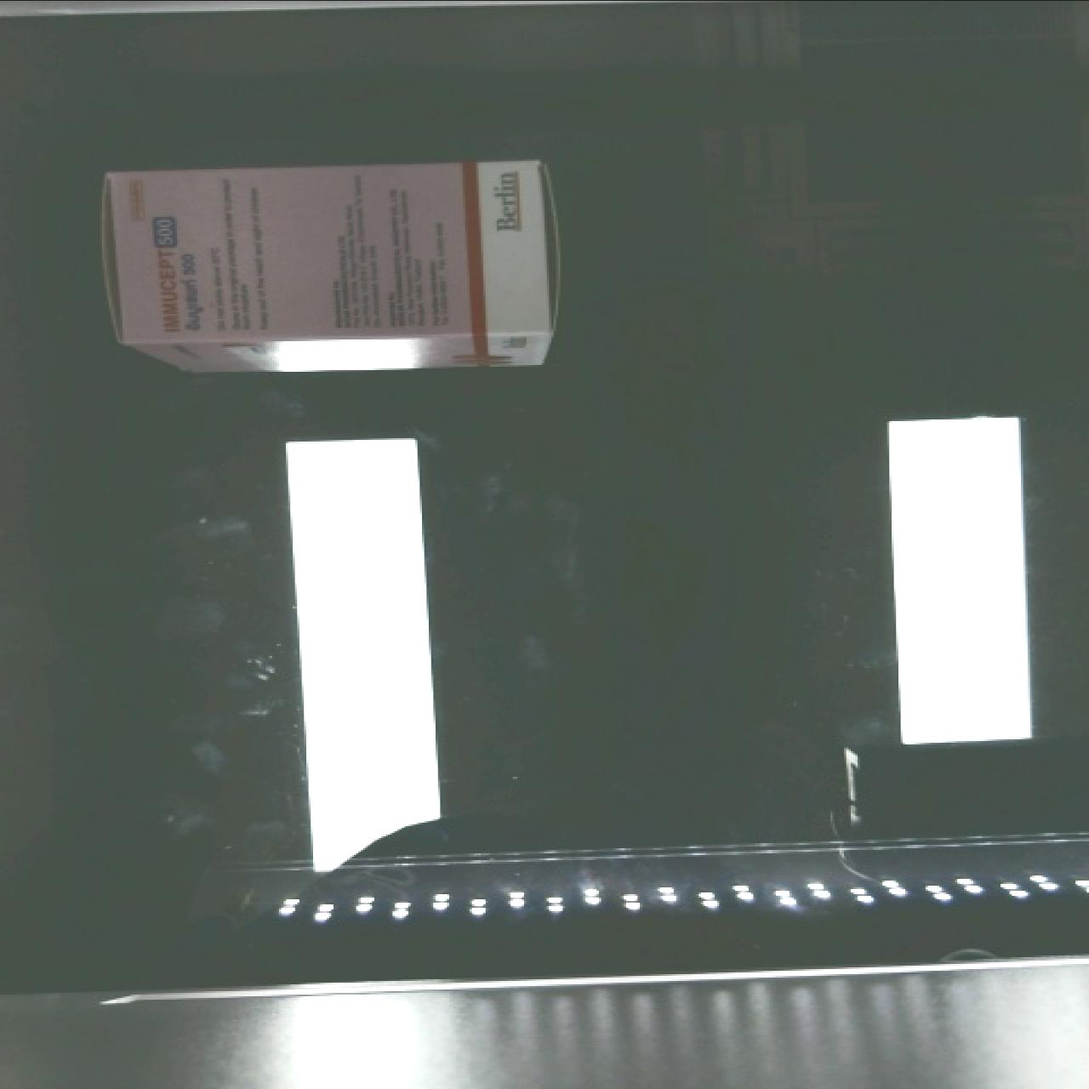medicine_label_obb: (143, 209, 191, 337)
